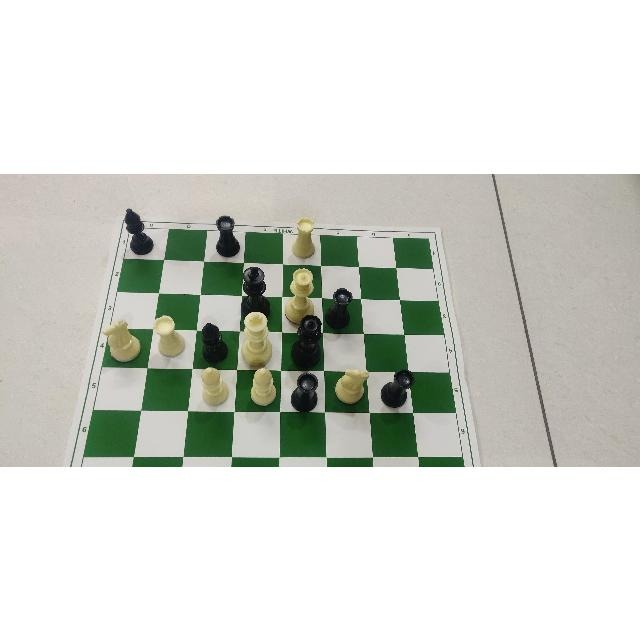black-bishop: (120, 207, 154, 255), (201, 322, 229, 362)
black-king: (243, 265, 271, 320)
black-queen: (293, 314, 323, 368)
black-rook: (382, 365, 414, 407), (326, 288, 354, 327), (215, 214, 240, 256), (292, 373, 318, 411)
white-bishop: (200, 366, 229, 406), (252, 367, 276, 405)
white-king: (241, 310, 274, 365)
white-knight: (103, 320, 141, 362), (333, 367, 369, 405)
white-queen: (284, 267, 314, 325)
white-rook: (154, 314, 186, 356), (291, 218, 317, 258)
